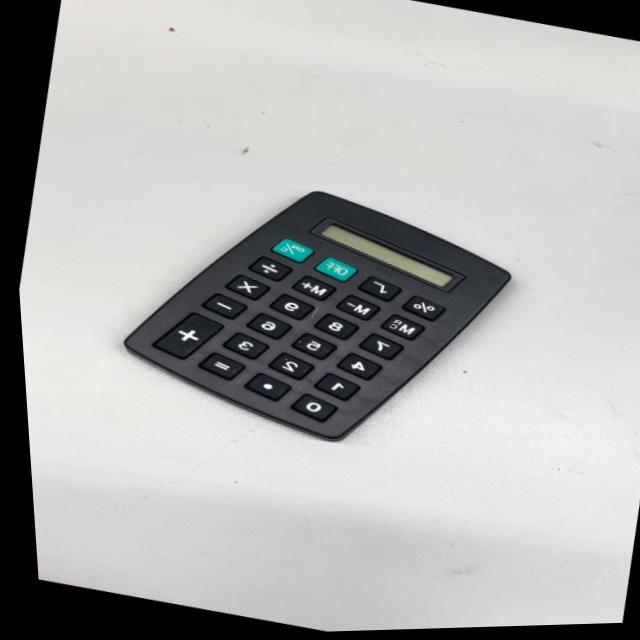calculator: (101, 149, 539, 482)
